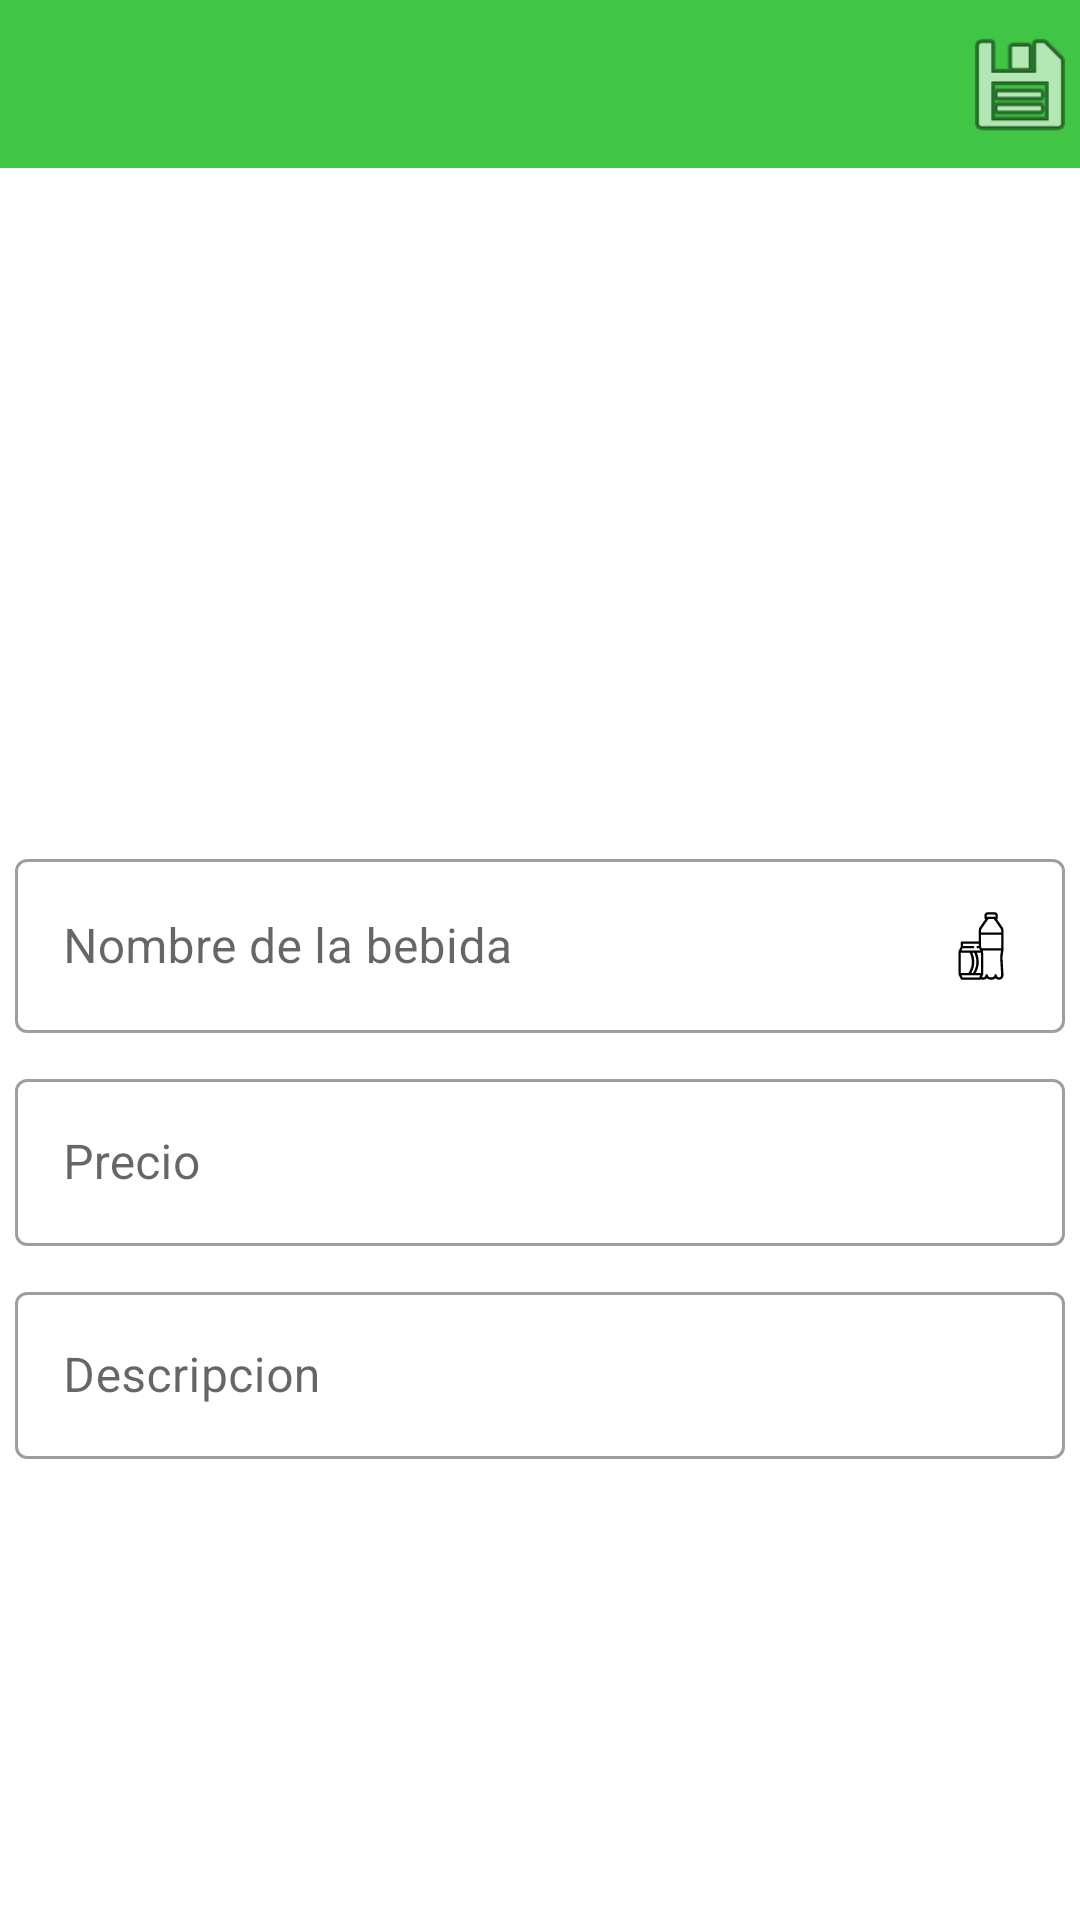

Point at icon controls on the screen. Image size 1080px×1920px, points as point (x, y).
save: point (1020, 84)
